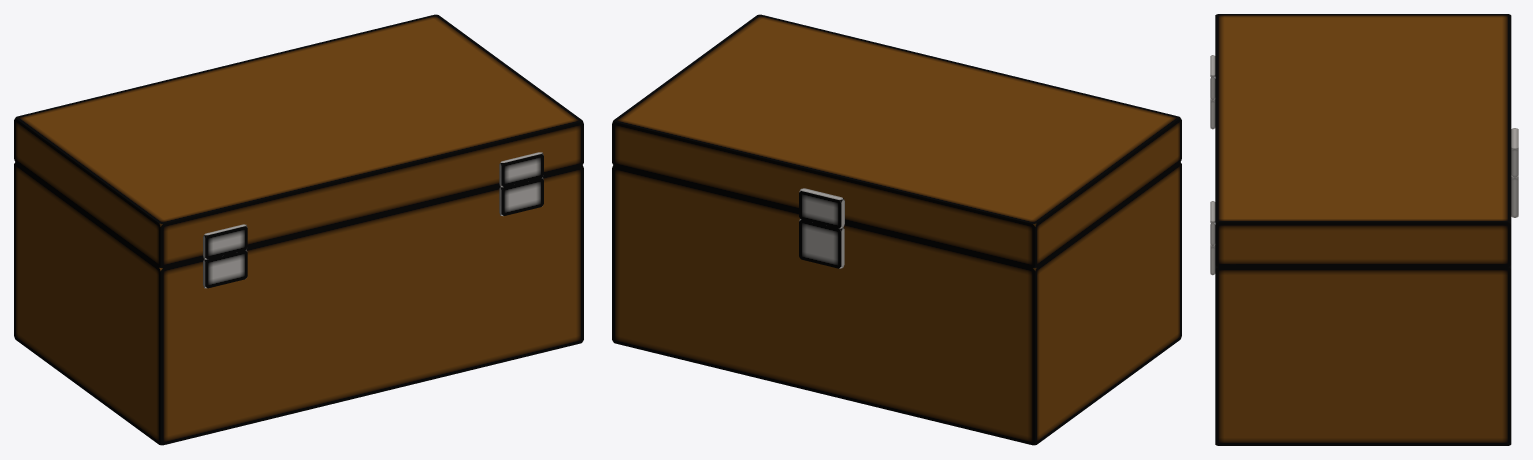
Rendered from chest.fbx.
3 renders of one model, left to right at view 1: azimuth 30°, elevation 25°; view 2: azimuth 150°, elevation 25°; view 3: azimuth 270°, elevation 25°, orthographic.
Visible parts, largest first — view 1: cube, cube_7, cube_2, cube_3, cube_5, cube_6; view 2: cube, cube_7, cube_1, cube_4; view 3: cube_7, cube, cube_4, cube_1.
Part boxes in pixels (x1,y1,x2,y2): cube: (14,162,583,445); cube_7: (14,14,583,267); cube_2: (203,249,247,288); cube_3: (499,177,543,216); cube_5: (203,224,247,259); cube_6: (499,152,543,187); cube: (612,162,1181,445); cube_7: (612,14,1181,267); cube_1: (799,219,844,268); cube_4: (799,188,844,228); cube_7: (1215,14,1511,267); cube: (1215,221,1511,445); cube_4: (1511,128,1518,177); cube_1: (1511,176,1518,217).
Bounding box in the file's own units: 125 × 62.5 × 78.12.
Materials: 1 (1 with a texture image).
